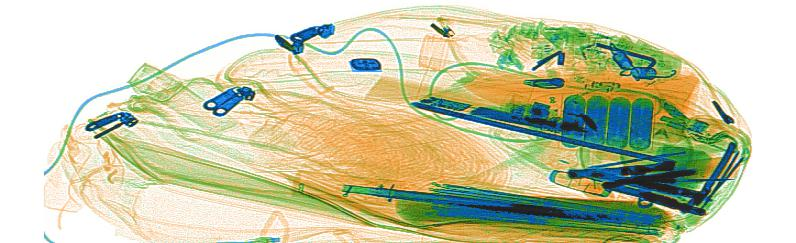battery: (556, 92, 659, 148)
